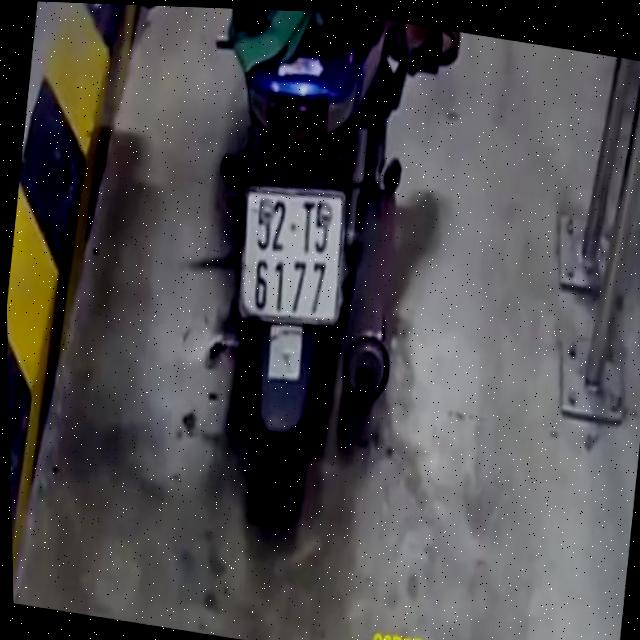motorcycle: (163, 6, 438, 519)
plate: (227, 177, 358, 335)
